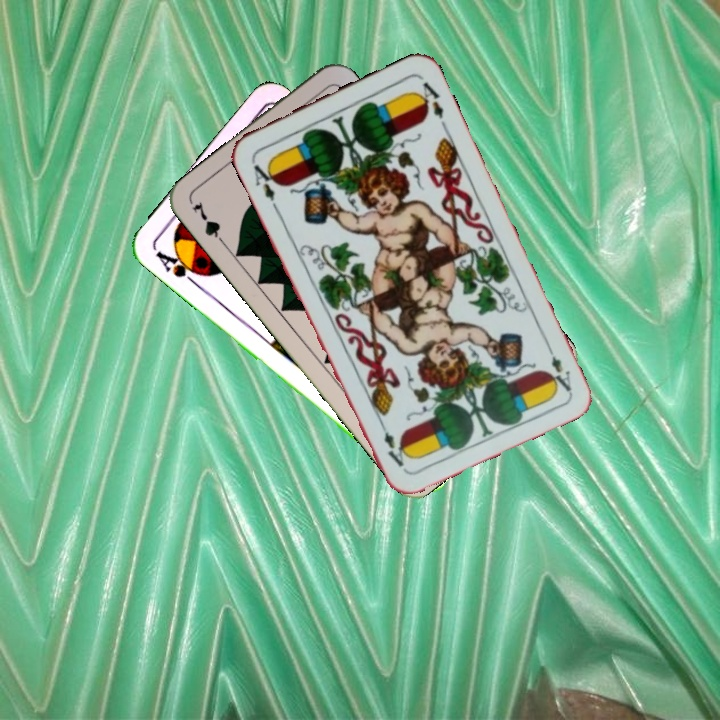EA: (541, 338, 574, 395), (247, 156, 281, 211)
G7: (188, 197, 230, 250)
SA: (151, 245, 207, 289)
